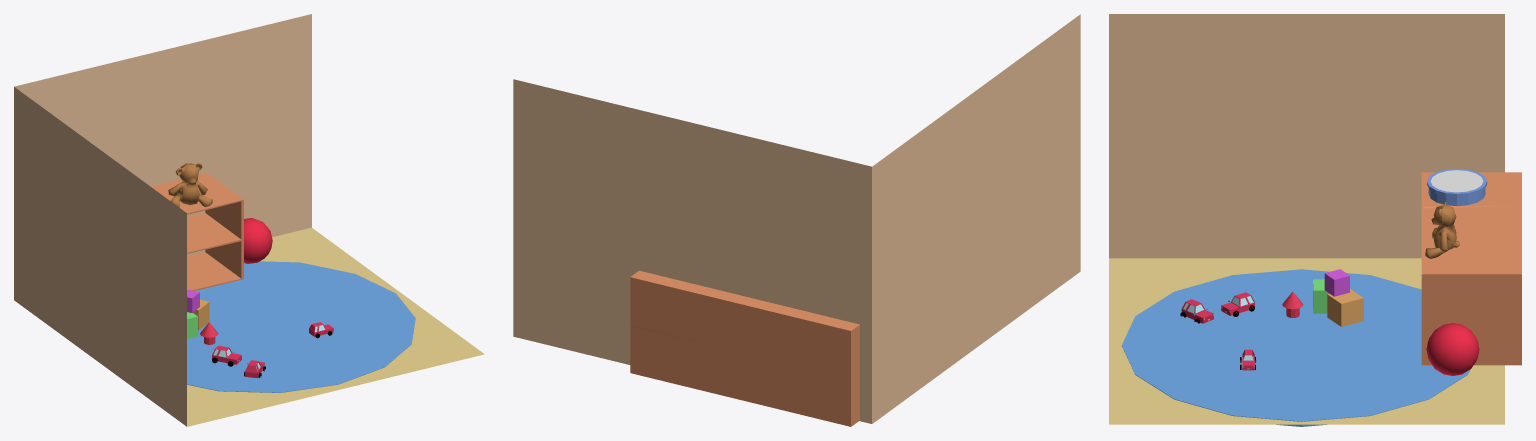
Rendered from room-4 playroom.glb.
The picture shows the model from 3 angles, left to right: view 1: azimuth 30°, elevation 25°; view 2: azimuth 150°, elevation 25°; view 3: azimuth 270°, elevation 25°; orthographic projection. The views are drawn at different scales.
Parts seen in each view (by area): view 1: Cube, Cylinder, Cube.010, Bear, PulangBola; view 2: Cube, Cube.010; view 3: Cube, Cylinder, Cube.010, PulangBola, DRUM, Bear, Cube.012, Cube.013, Cylinder.005, Cylinder.003, Cube.011.
Boxes of the visible parts, x1,y1,x2,y2 form: Cube: (14,14,484,426); Cylinder: (187,261,415,392); Cube.010: (151,173,243,290); Bear: (168,163,212,207); PulangBola: (244,218,272,263); Cube: (513,14,1080,423); Cube.010: (630,270,859,426); Cube: (1109,14,1504,424); Cylinder: (1121,269,1469,426); Cube.010: (1421,172,1521,365); PulangBola: (1426,323,1479,375); DRUM: (1427,168,1487,206); Bear: (1425,202,1459,258); Cube.012: (1327,289,1363,326); Cube.013: (1324,269,1349,296); Cylinder.005: (1221,292,1254,316); Cylinder.003: (1180,299,1214,323); Cube.011: (1313,279,1329,313).
Bounding box in the file's own units: 2.46 × 1.72 × 2.58.
